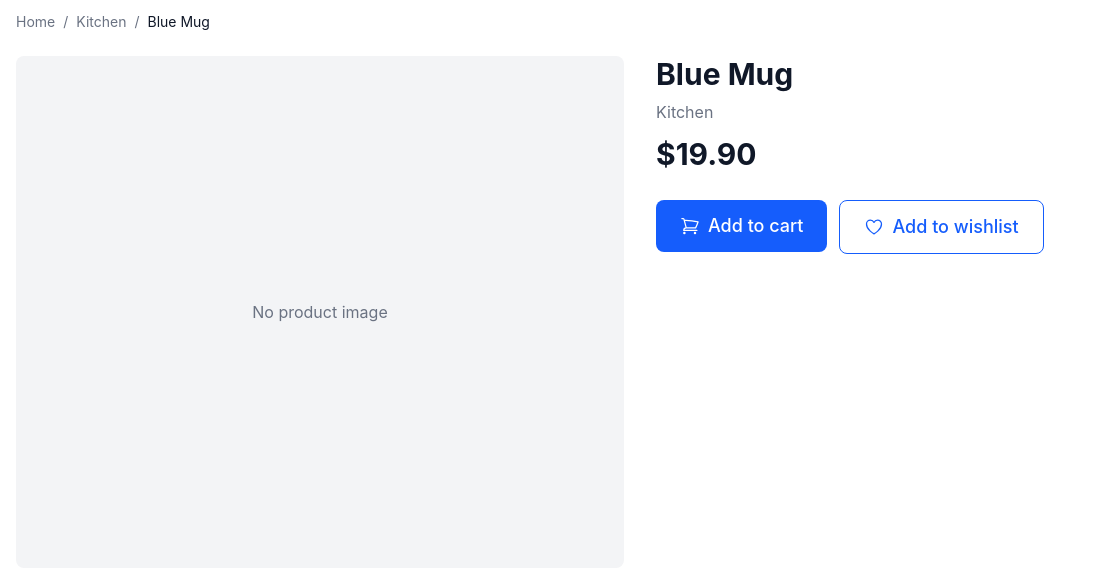
Test case: ProductDetailPage wishlist button › shows 'Add to wishlist' when the product is absent, and adds it on click
Click the button "Add to wishlist" at [942, 227], box [840, 200, 1044, 254]
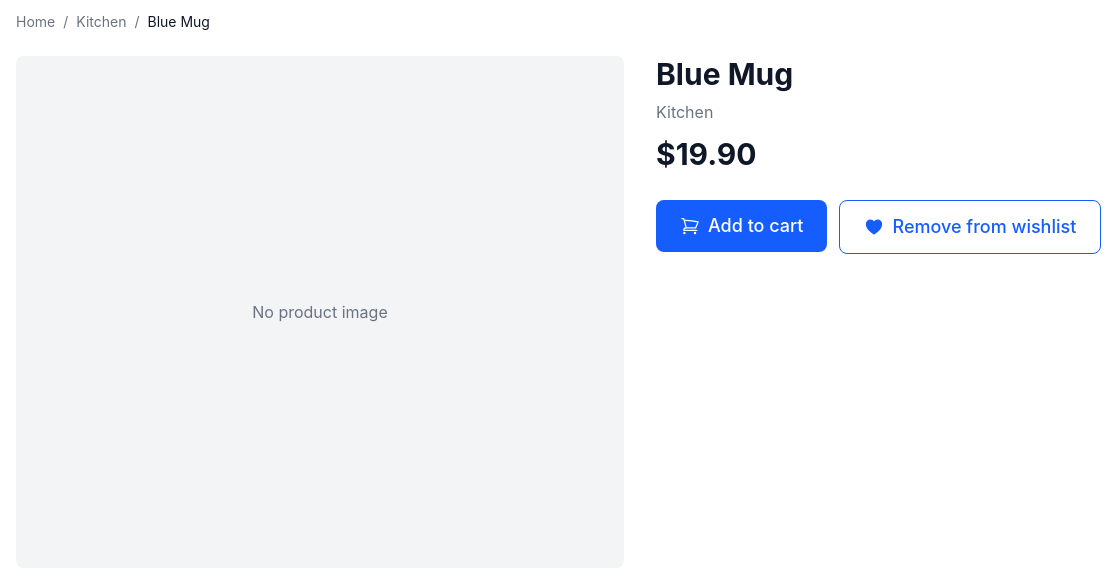
Check: the button "Remove from wishlist" is shown, box [840, 200, 1101, 254]
